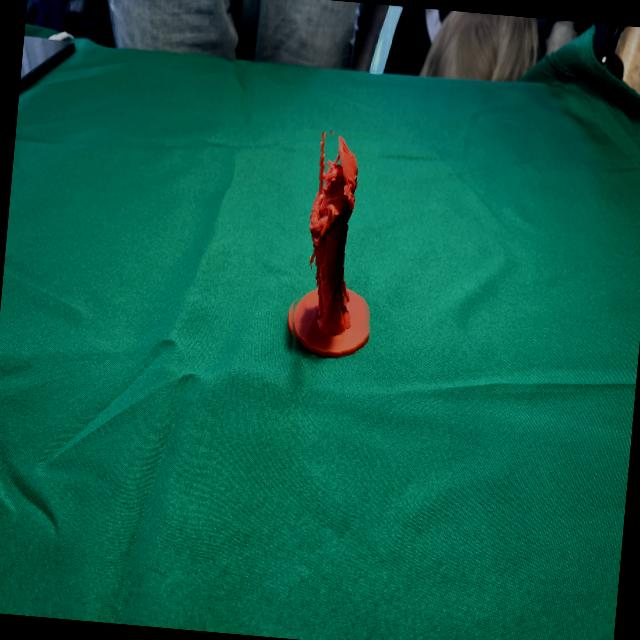amon: (280, 127, 384, 362)
